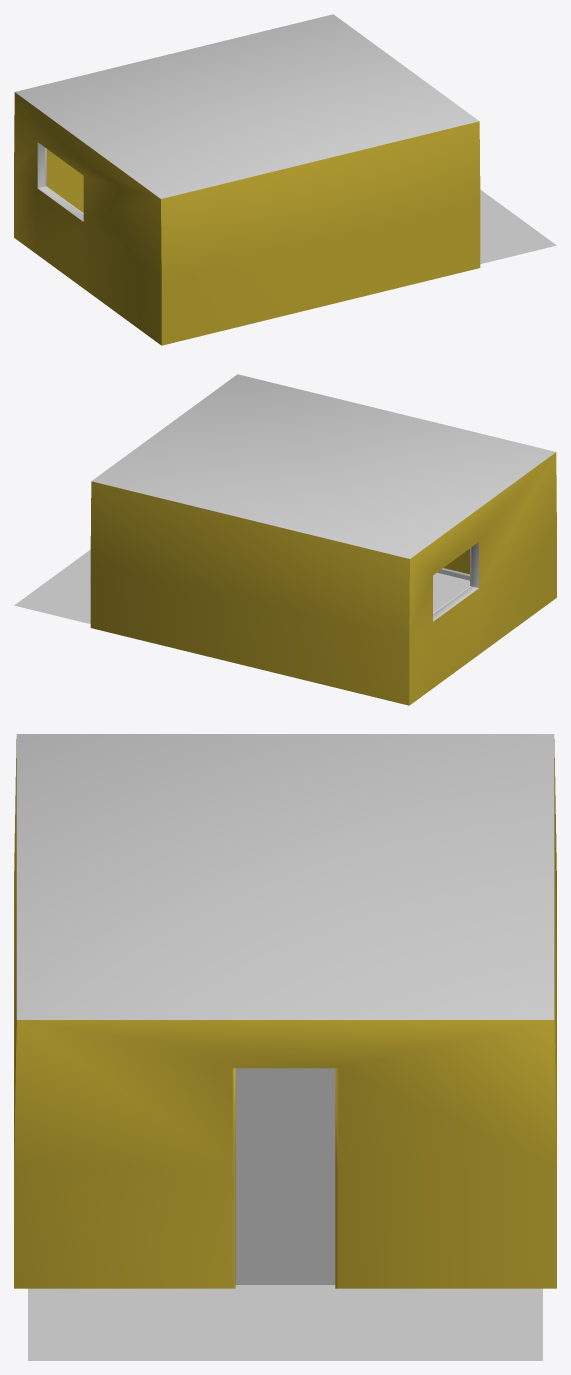
The model's file is ChildsRoom2.fbx.
3 views of the same model, one above another, from view 1: azimuth 30°, elevation 25°; view 2: azimuth 150°, elevation 25°; view 3: azimuth 270°, elevation 25° (orthographic). The views are drawn at different scales.
Parts seen in each view (by area): view 1: Cube, Cube.001; view 2: Cube, Cube.001; view 3: Cube, Cube.001, Cylinder.
Boxes of the visible parts, <box> form: Cube: <box>14,14,480,345</box>; Cube.001: <box>480,189,556,263</box>; Cube: <box>90,374,556,705</box>; Cube.001: <box>14,549,469,623</box>; Cube: <box>14,734,556,1288</box>; Cube.001: <box>28,1285,542,1360</box>; Cylinder: <box>235,1068,335,1284</box>.
Size of the model in its own units: 2107 by 740 by 1350.
